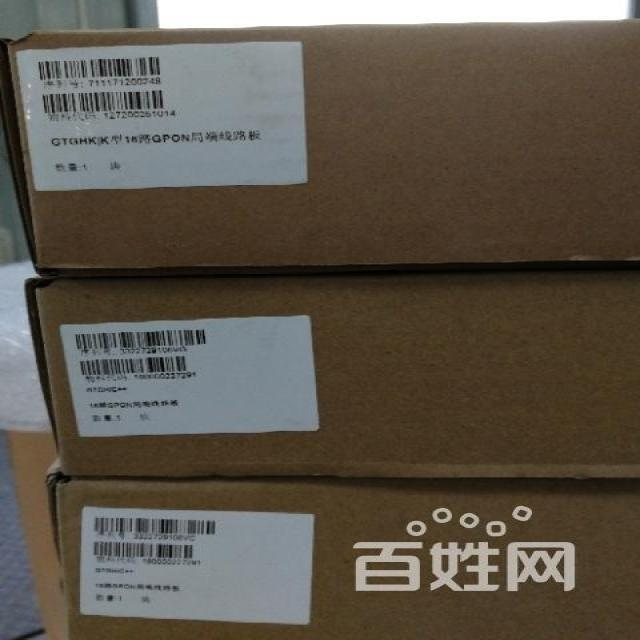box: (0, 18, 640, 278), (24, 267, 640, 478), (45, 459, 640, 640)
